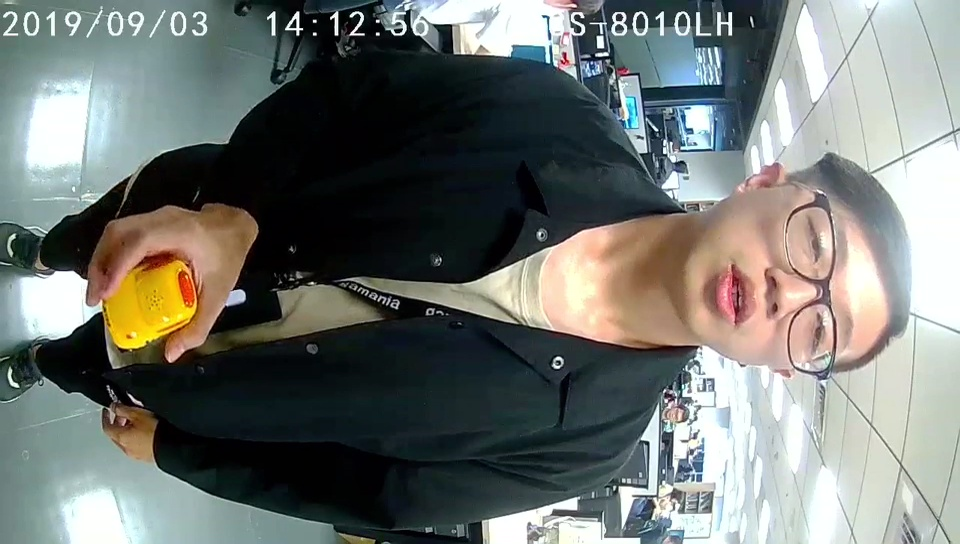car: (100, 255, 200, 347)
